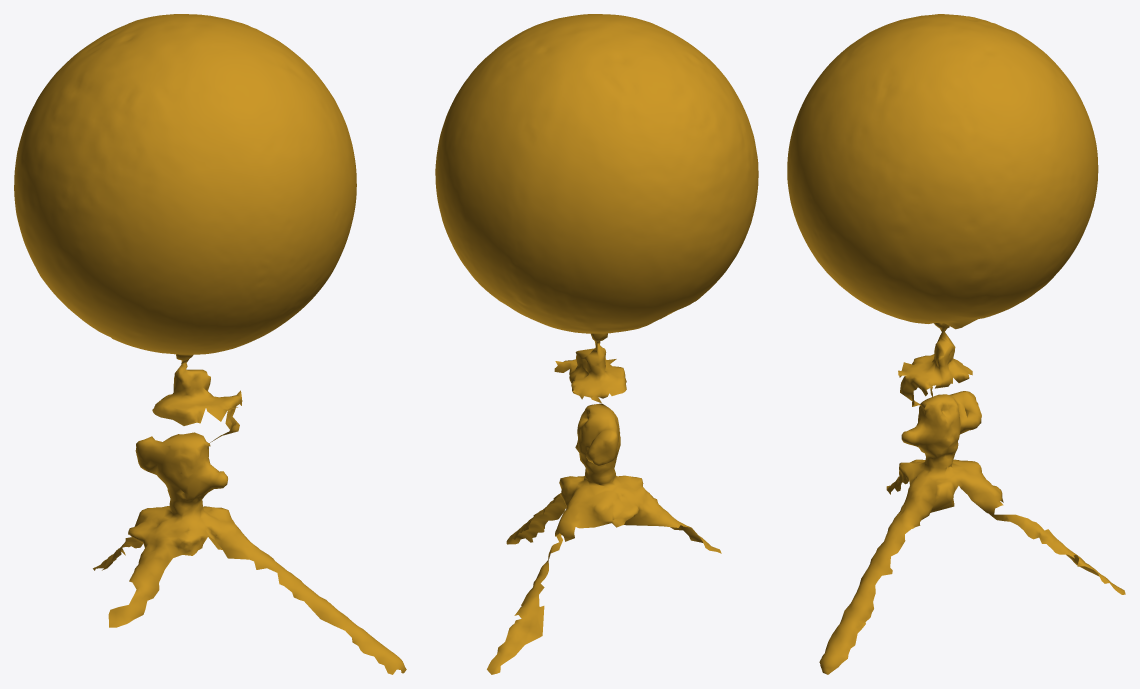
File: Gridtest_1_0_1.000001.obj
The picture shows the model from 3 angles, left to right: view 1: azimuth 30°, elevation 25°; view 2: azimuth 150°, elevation 25°; view 3: azimuth 270°, elevation 25°; orthographic projection. The views are drawn at different scales.
Visible parts, largest first — view 1: ./Gridtest_1_0_1.000001; view 2: ./Gridtest_1_0_1.000001; view 3: ./Gridtest_1_0_1.000001.
Boxes of the visible parts, x1,y1,x2,y2 form: ./Gridtest_1_0_1.000001: (14, 14, 406, 674); ./Gridtest_1_0_1.000001: (435, 14, 758, 674); ./Gridtest_1_0_1.000001: (787, 14, 1125, 674).
Bounding box in the file's own units: 309 × 611 × 325.
